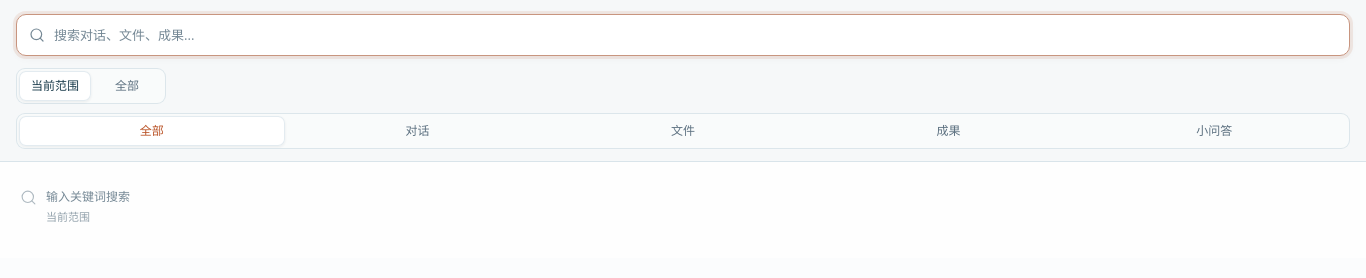
it: GlobalSearchPage › keeps the field, scope, and type controls in the approved order and clears in place
The width and height of the screenshot is (1366, 278).
Type "分析报告" into the field with placeholder "搜索对话、文件、成果..." at [696, 35], box [54,26,1339,44]
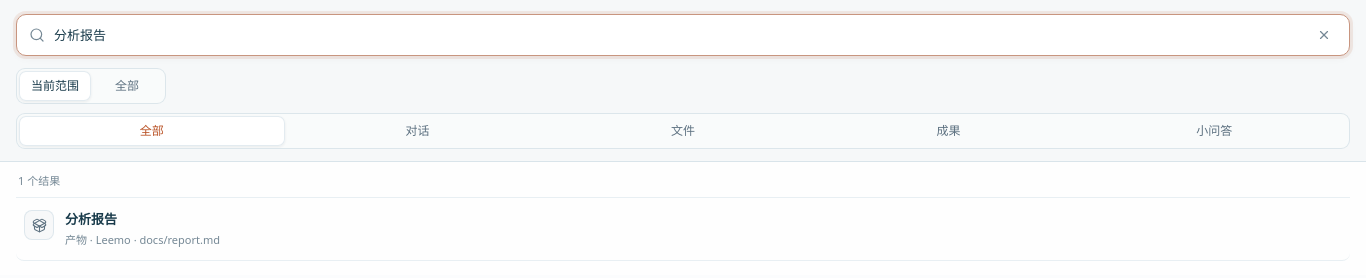
Click the button named "清空搜索" at [1324, 35], box [1309,20,1339,50]
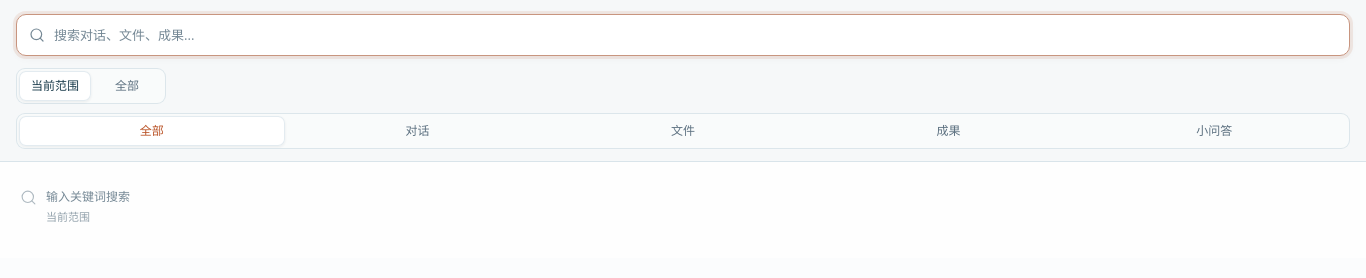
Check: the field with placeholder "搜索对话、文件、成果..." is empty, box [54,26,1339,44]
